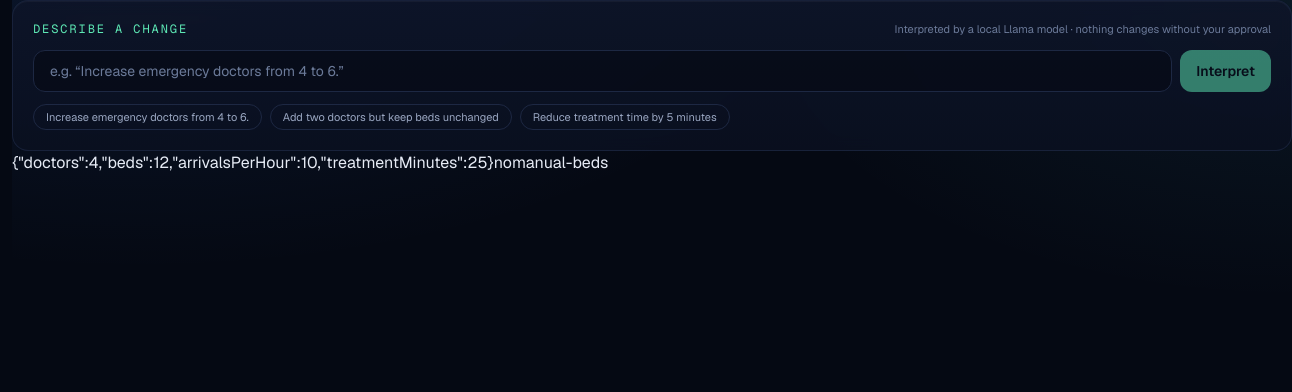
it: ScenarioAssistant approval flow › approving applies the proposal to the controls but does not run the simulation
The image size is (1292, 392).
Type "Add two emergency doctors." into the field named "Describe a scenario change" at point(603, 70), box [33,50,1172,92]
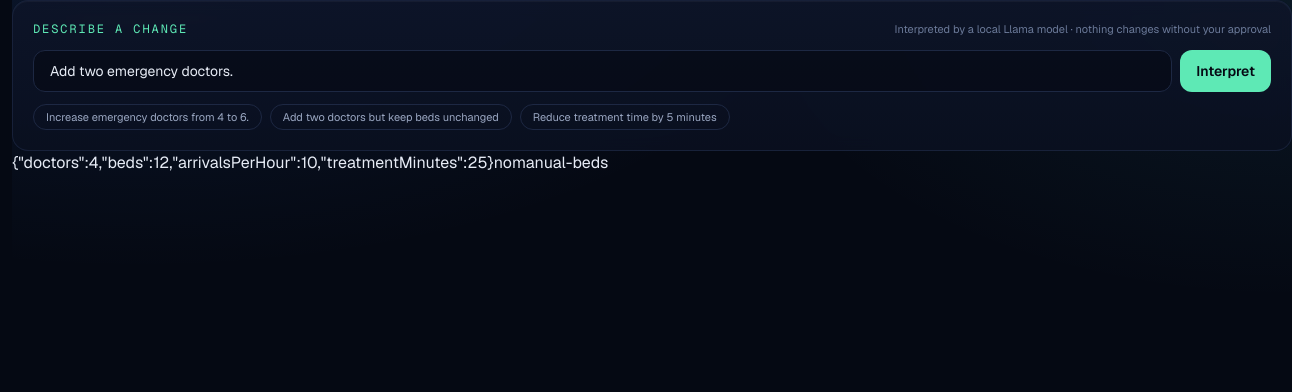
Click the button "Interpret" at point(1226, 70), box [1180,50,1271,92]
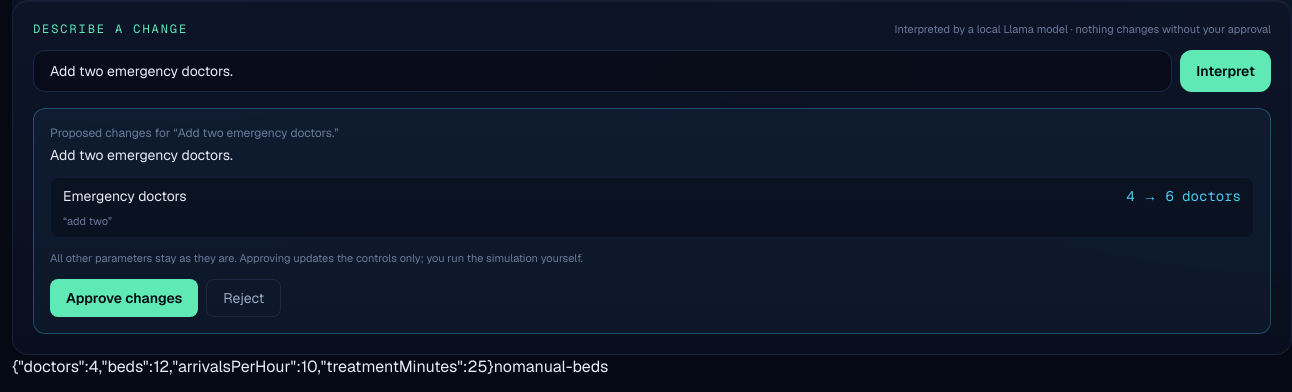
expect the text "4 → 6 doctors" is shown: met, box [1126,186,1241,206]
Click the button "Approve changes" at point(124, 298), box [50,279,198,317]
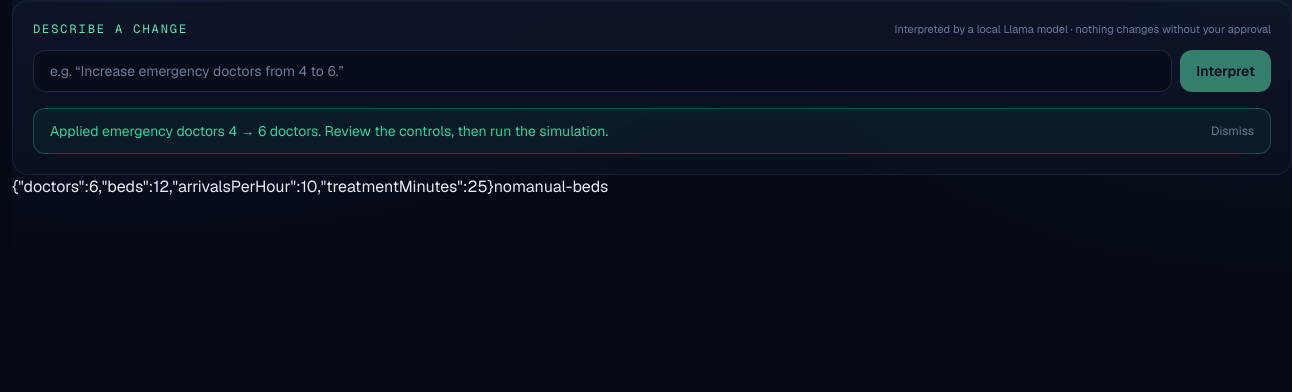
expect the text with test id "ran" reads "no": met, box [494,176,512,196]
expect the text "Review the controls, then run the simulation" is shown: met, box [318,122,608,140]
